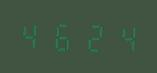four: (18, 18, 47, 52), (108, 20, 137, 54)
six: (48, 19, 77, 52)
two: (78, 20, 107, 53)
